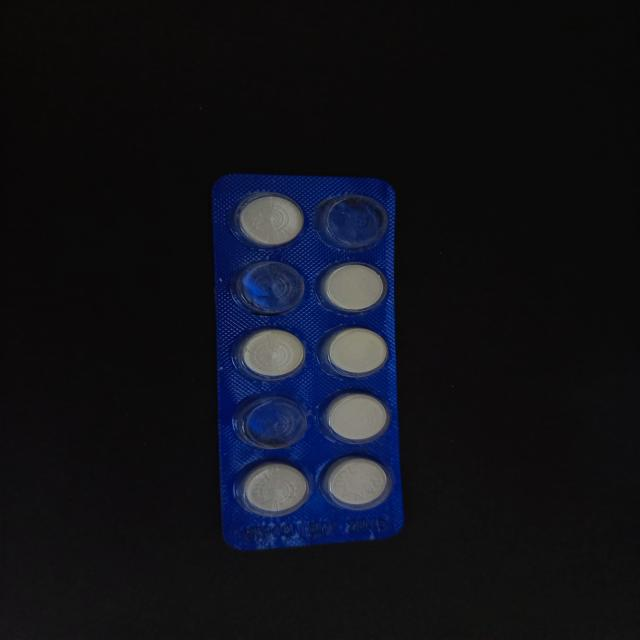defect: (229, 389, 311, 453), (228, 257, 310, 320), (312, 190, 392, 252)
